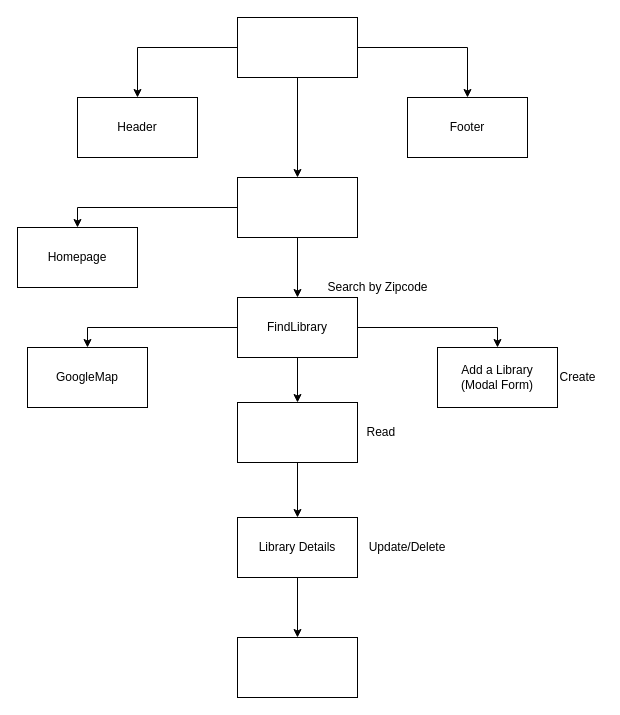
Some shapes in this 620 by 715 pixel diagram are drawn without their labels. Each missing label, with the centre of its shape:
App: pixel 297 47
LibraryList: pixel 297 432
Main: pixel 297 207
Pic/Comments Form: pixel 297 667
